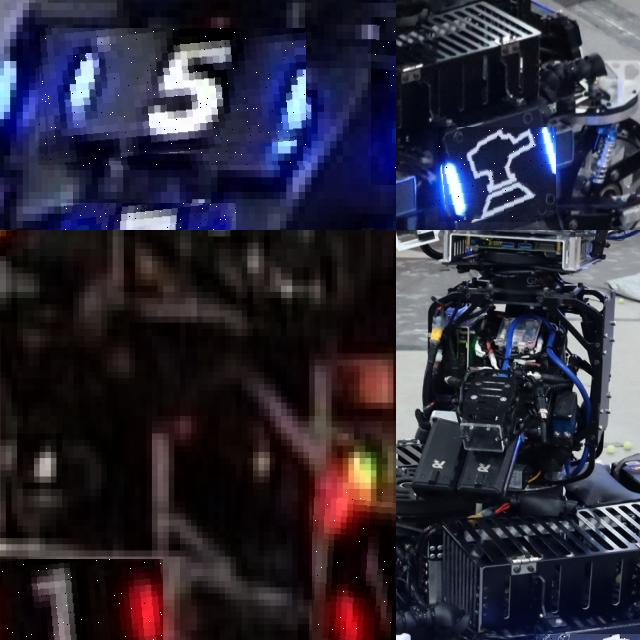B5: (39, 28, 308, 166), (371, 17, 396, 184)
Bs: (438, 127, 556, 222)
R1: (0, 559, 163, 640), (311, 489, 396, 640)
